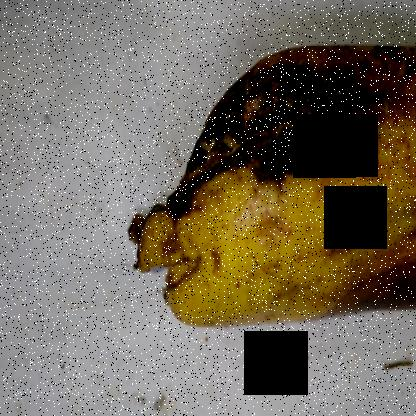ripe: (131, 190, 380, 339), (357, 40, 415, 324)
rotten: (111, 47, 371, 228), (312, 248, 415, 346)
